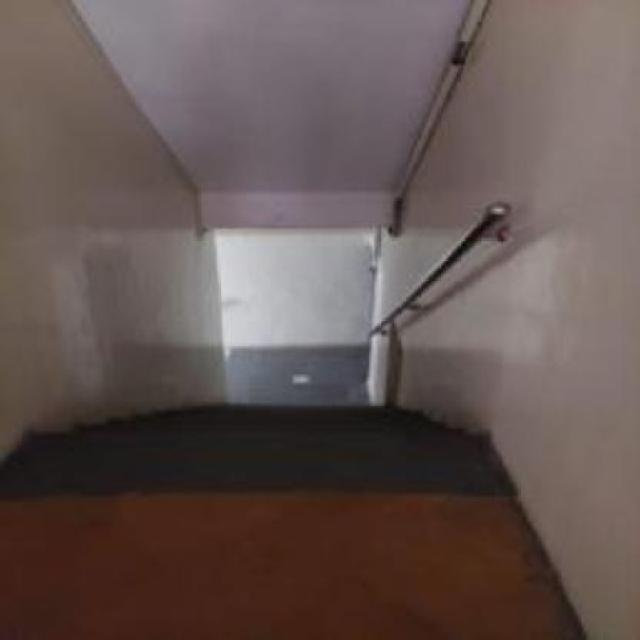stair: (14, 380, 497, 485)
